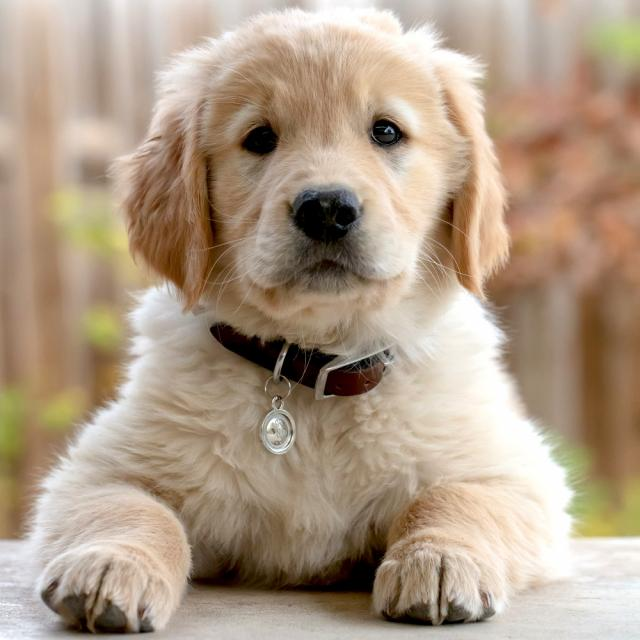dogs: (30, 10, 582, 640)
